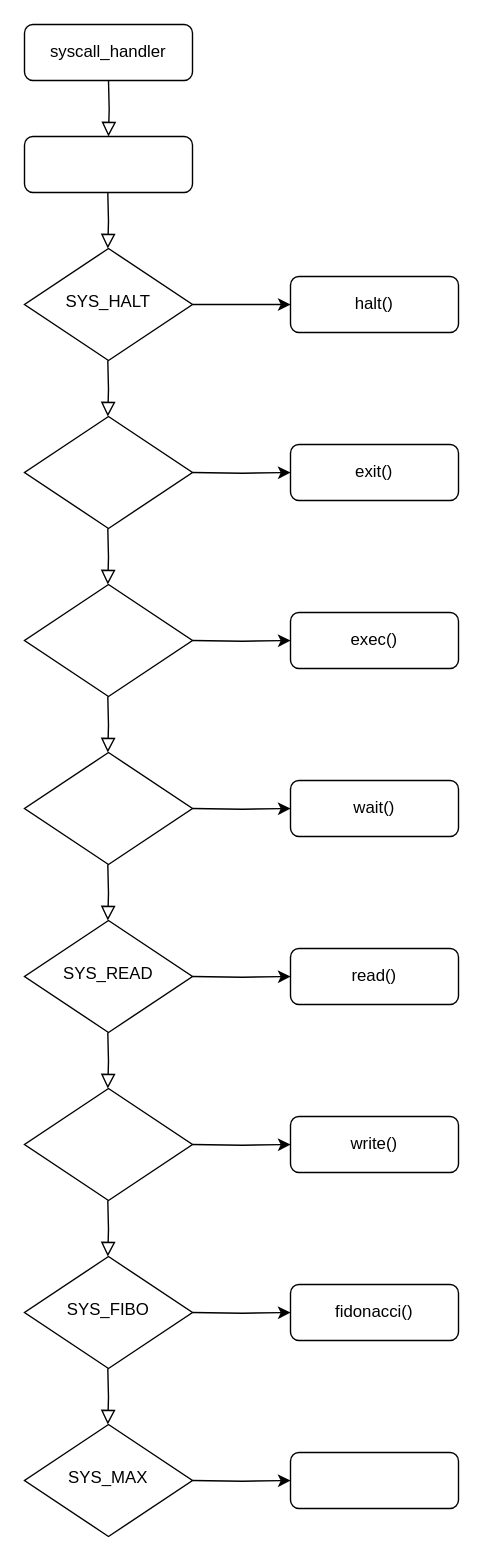
The diagram is 483 pixels wide and 1561 high, and some of its shapes have lost their labels. The shapes that lost their labels are listed below. From the top down, each one's box as (x1, y1, x2, y2) in pixels, then its label:
(23, 135, 192, 192): switch(syscall_no)
(23, 415, 192, 528): SYS_EXIT
(23, 583, 192, 696): SYS_EXEC
(23, 751, 192, 864): SYS_WAIT
(23, 1087, 192, 1200): SYS_WRITE
(289, 1451, 458, 1508): max_of_four_int()
